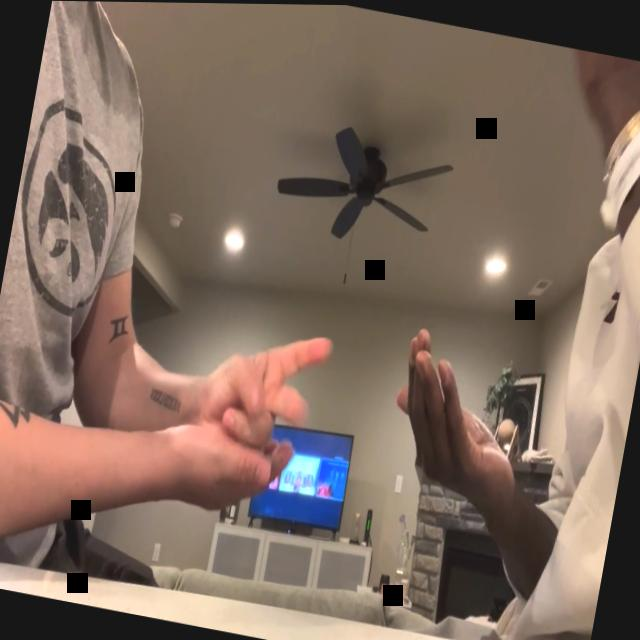Scissors: (192, 317, 331, 459)
